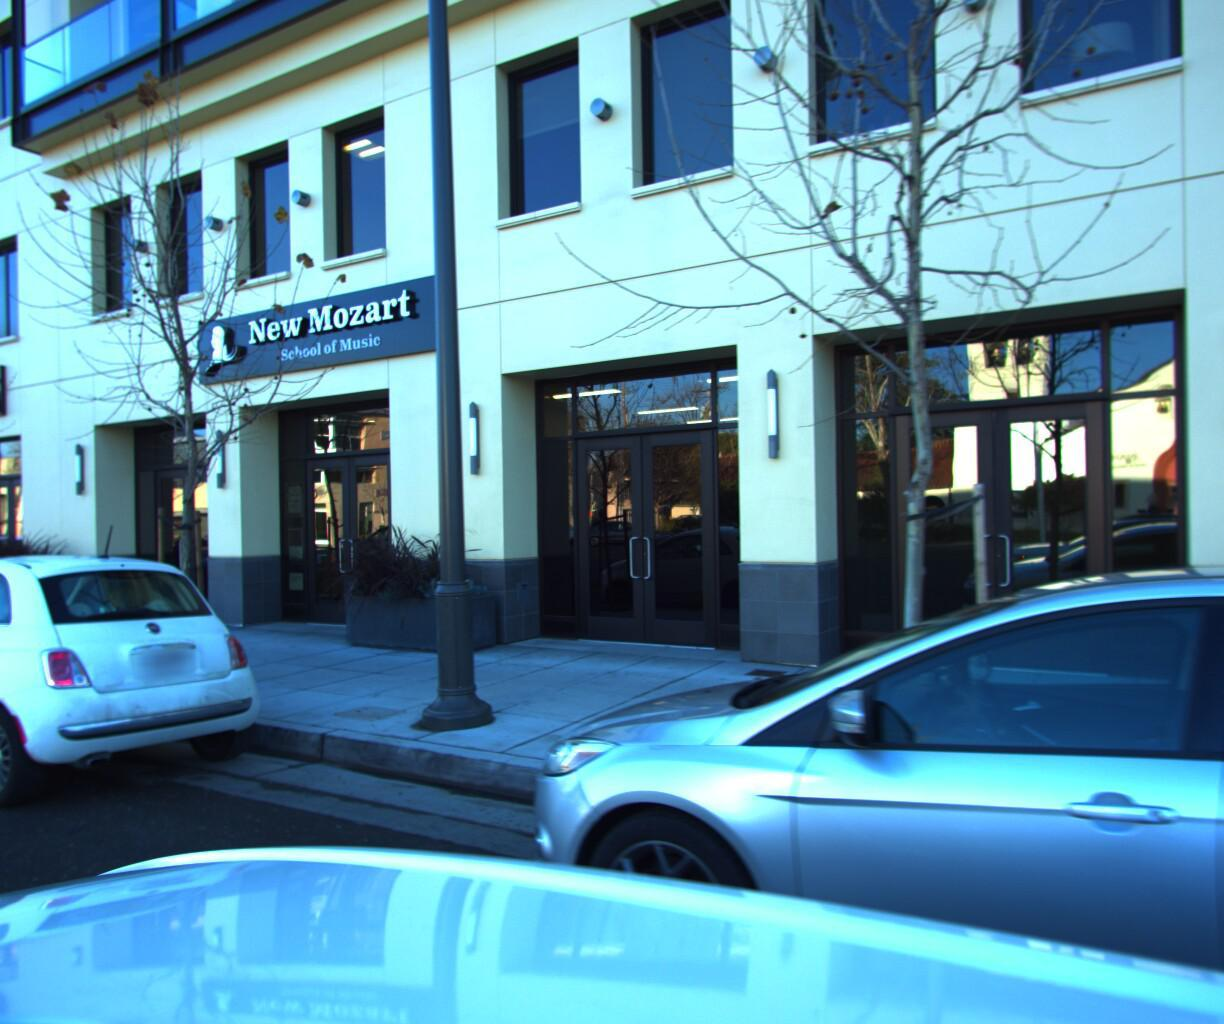car: (408, 531, 1224, 1024), (0, 536, 288, 849)
